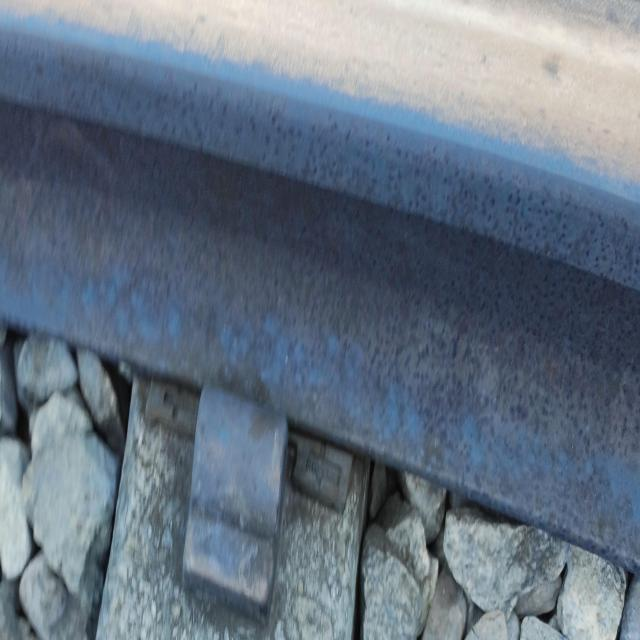Missing Fastener: (125, 370, 337, 640)
